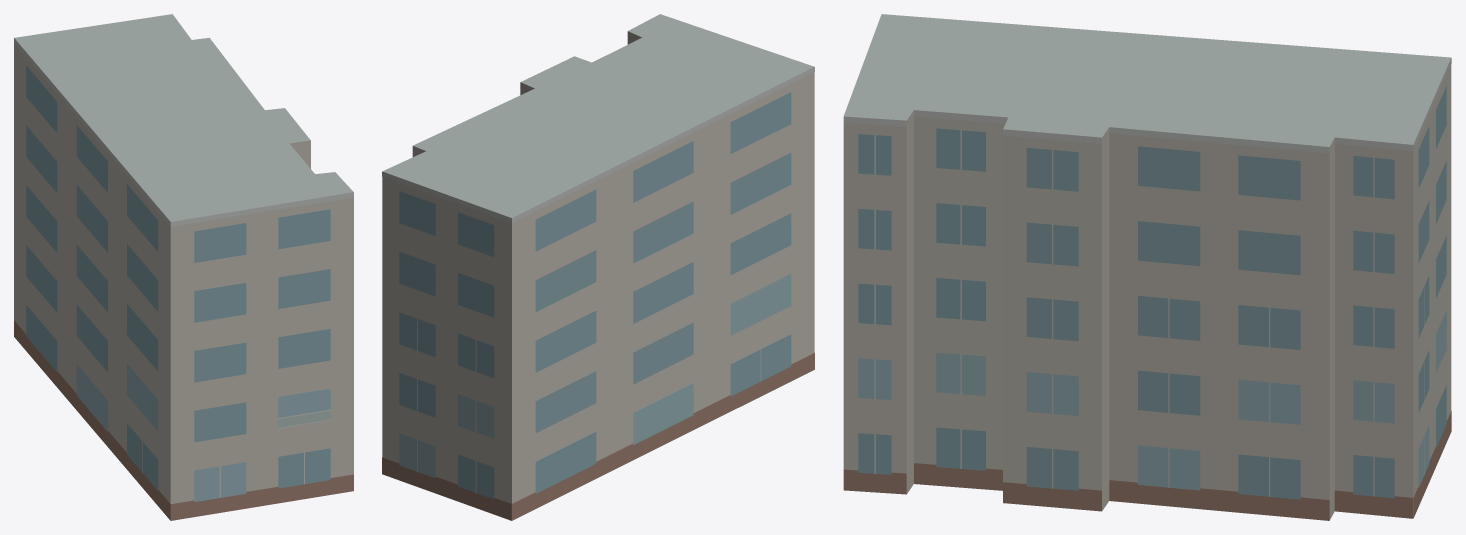
File: survey-upis-32758238.glb
The picture shows the model from 3 angles, left to right: view 1: azimuth 30°, elevation 25°; view 2: azimuth 150°, elevation 25°; view 3: azimuth 270°, elevation 25°; orthographic projection. The views are drawn at different scales.
Parts seen in each view (by area): view 1: survey-upis-32758238.tmp; view 2: survey-upis-32758238.tmp; view 3: survey-upis-32758238.tmp.
Part boxes in pixels (x1,y1,x2,y2): survey-upis-32758238.tmp: [14, 14, 353, 520]; survey-upis-32758238.tmp: [382, 14, 814, 520]; survey-upis-32758238.tmp: [843, 14, 1451, 520].
Bounding box in the file's own units: 11.08 × 14.5 × 21.38.
